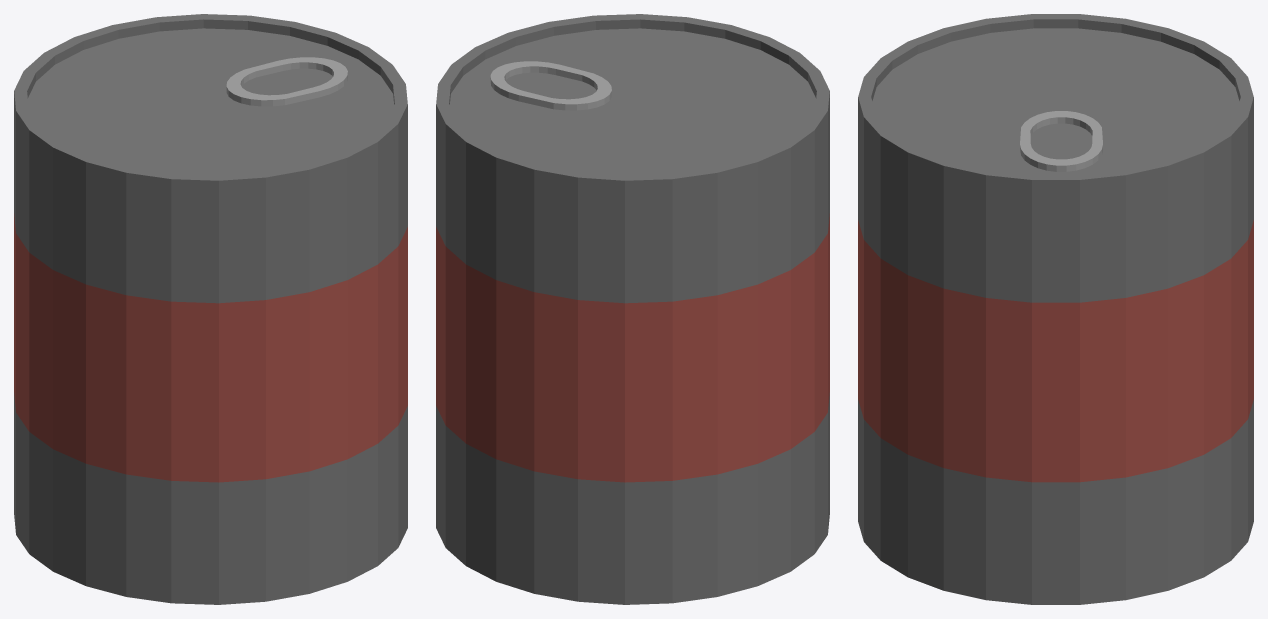
Rendered from Консерва тушенки.fbx.
3 views of the same model, side by side, from view 1: azimuth 30°, elevation 25°; view 2: azimuth 150°, elevation 25°; view 3: azimuth 270°, elevation 25° (orthographic).
Parts seen in each view (by area): view 1: Cylinder.001; view 2: Cylinder.001; view 3: Cylinder.001.
Part boxes in pixels (bbox=[...]): Cylinder.001: bbox=[14, 14, 407, 604]; Cylinder.001: bbox=[436, 14, 829, 604]; Cylinder.001: bbox=[858, 14, 1253, 604].
Size of the model in its own units: 33.28 by 39.73 by 33.53.
